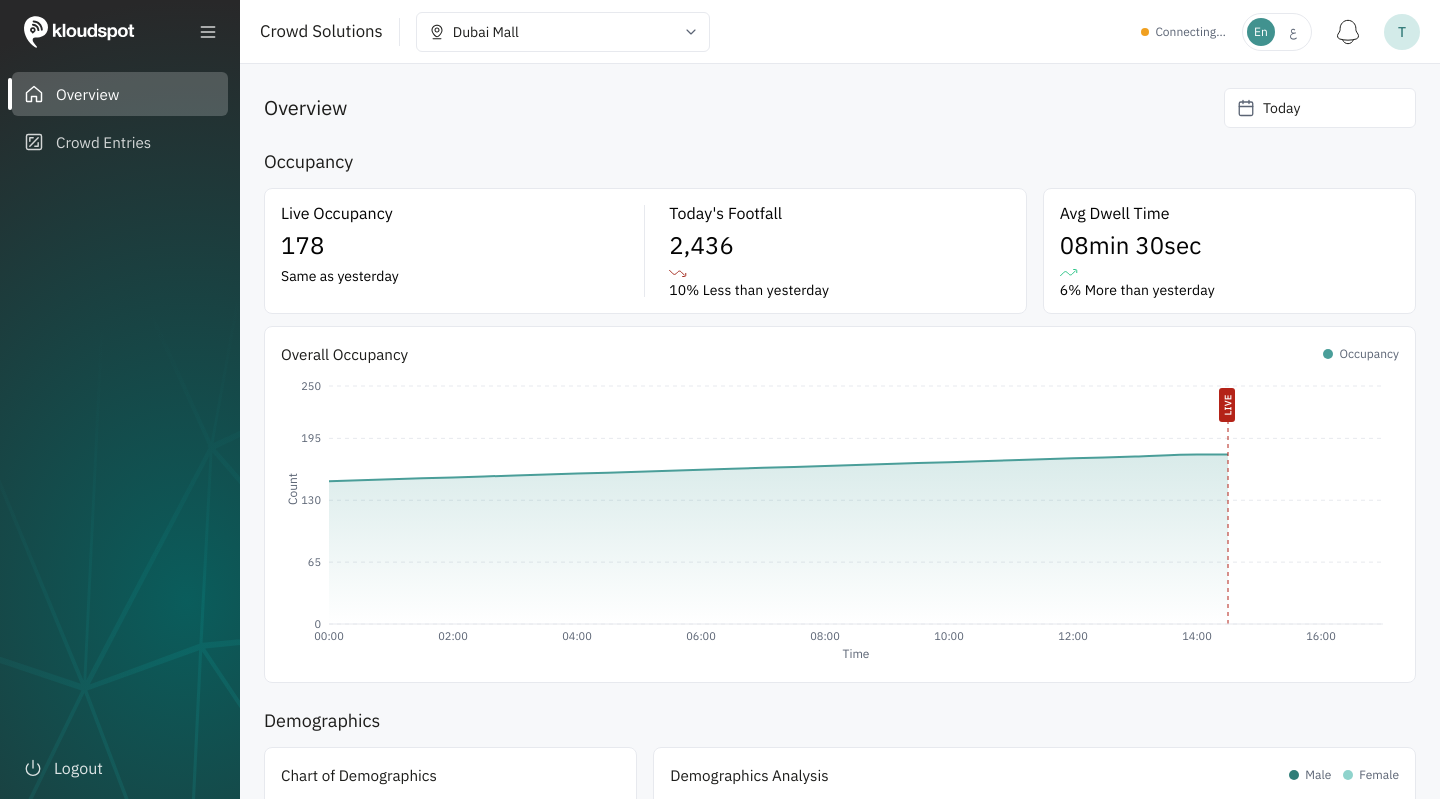
Test: language toggle › remembers the choice and switches back to English
expect the heading "Overview" is shown: met, box [264, 94, 348, 122]
Click the button named "العربية".
click(1293, 32)  # box [1279, 18, 1307, 46]
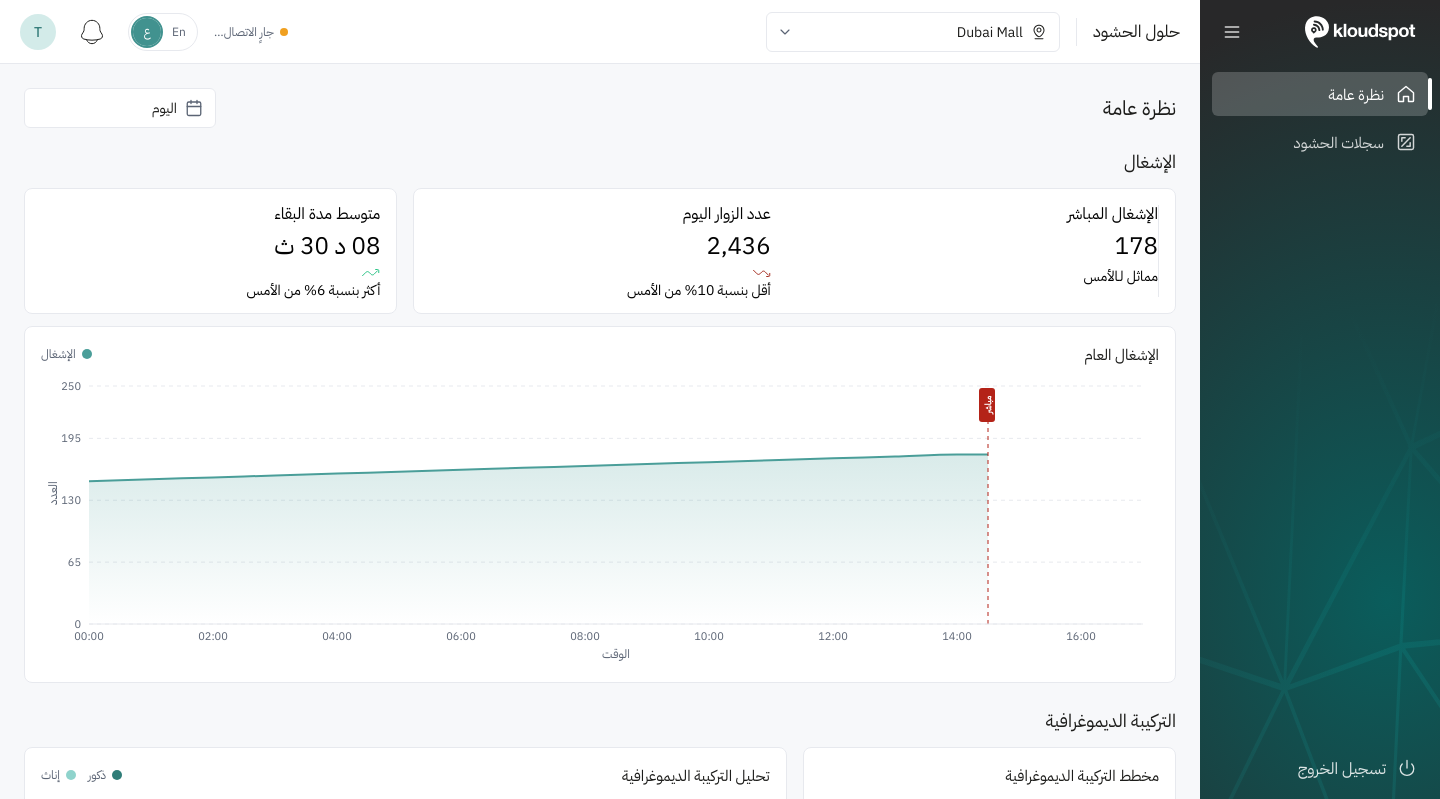
expect the heading "نظرة عامة" is shown: met, box [1103, 94, 1176, 122]
Click the button with aria-label "English".
click(179, 32)  # box [165, 18, 193, 46]
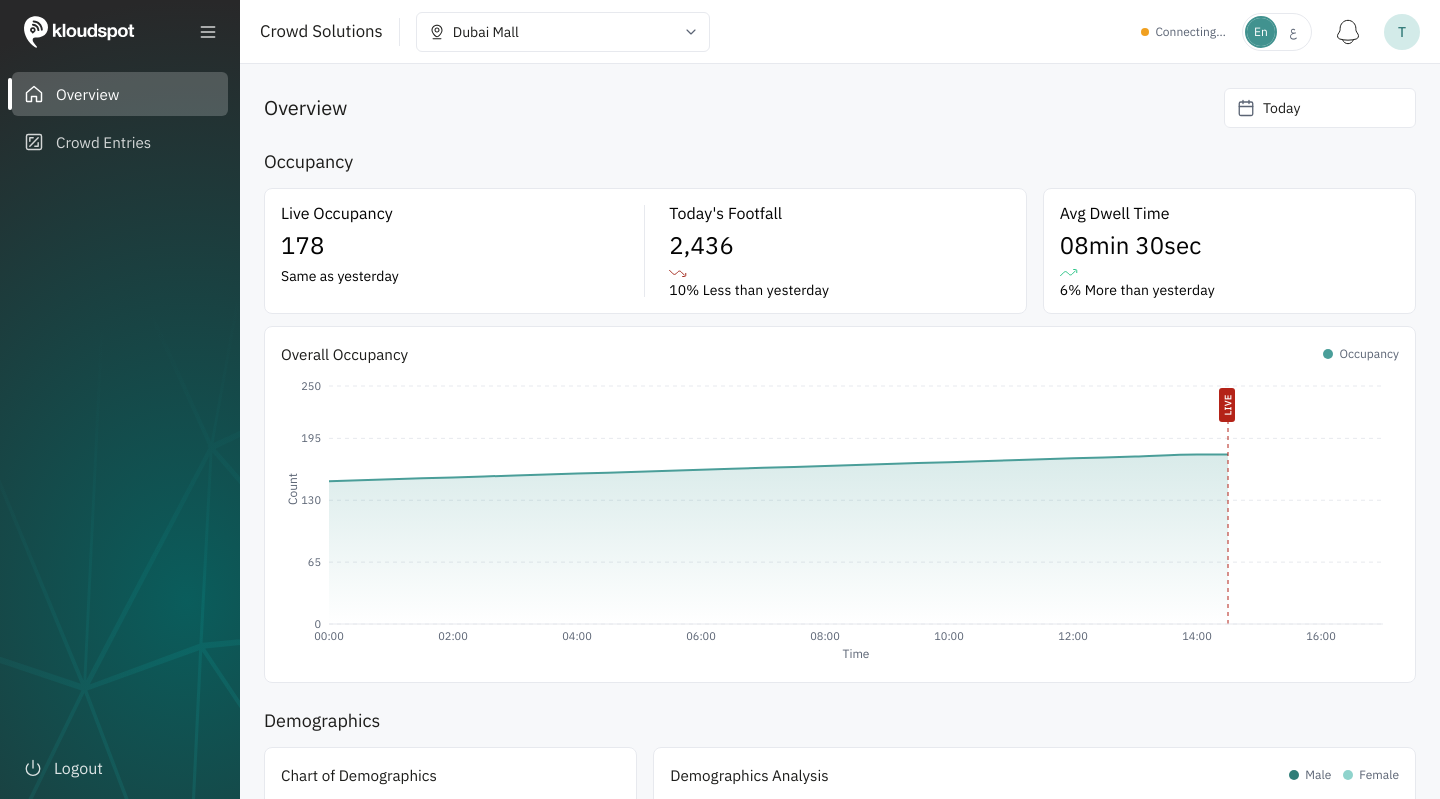
expect the heading "Overview" is shown: met, box [264, 94, 348, 122]
